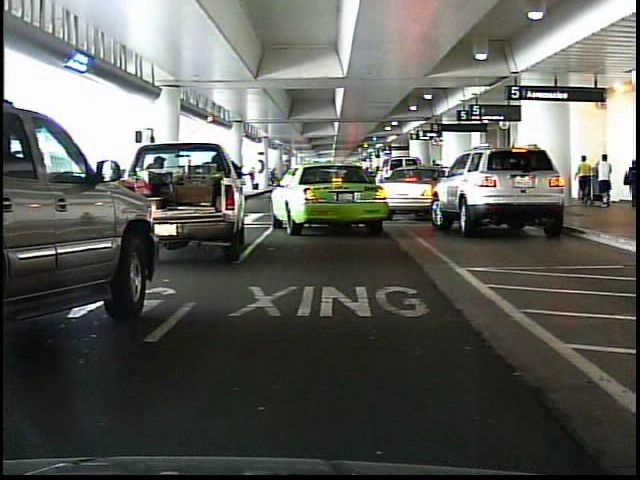person: (597, 152, 615, 208), (577, 154, 594, 207), (620, 159, 636, 210)
